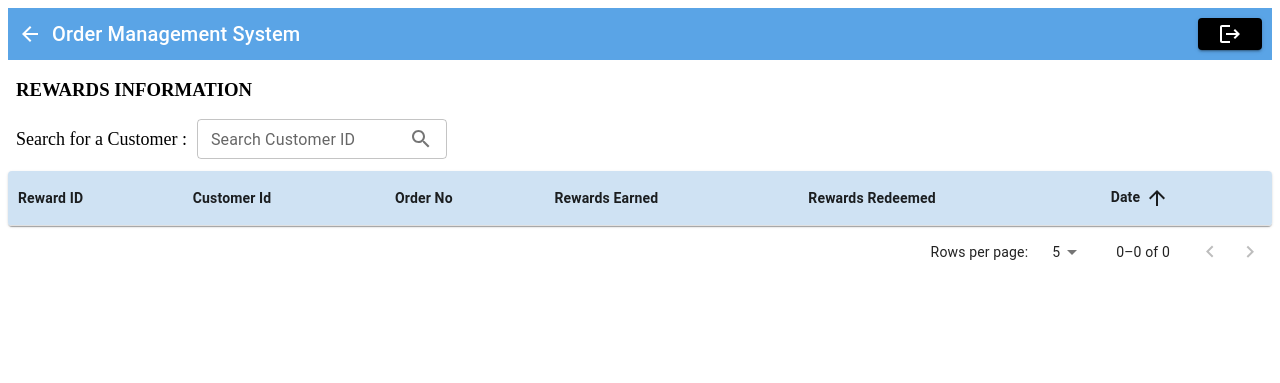
it: user can sort rewards by date
What coordinates should you click on to do the following:
click the button named "sort"
I would click on:
 (1157, 198)
Its box is [1140,181,1174,215].
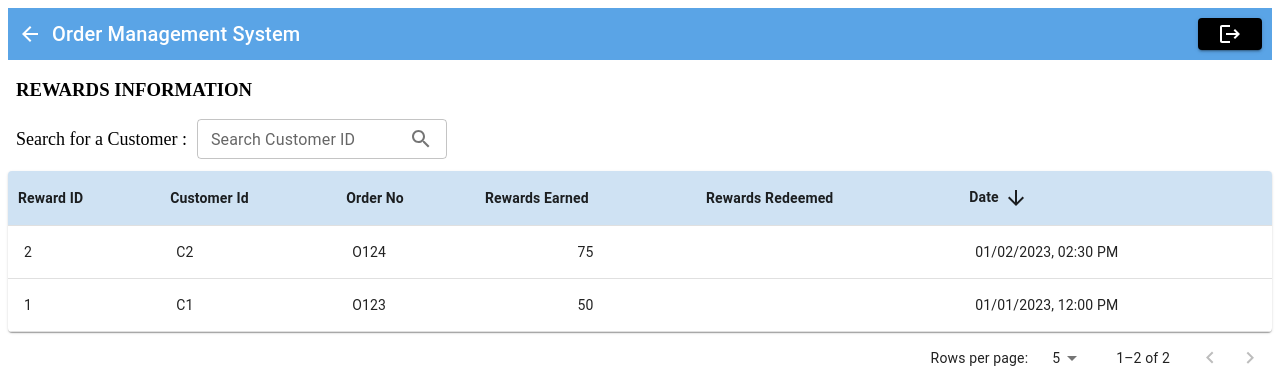
Expected: the text "C2" is shown, [160,226,336,279]
Expected: the text "C1" is shown, [160,279,336,332]
